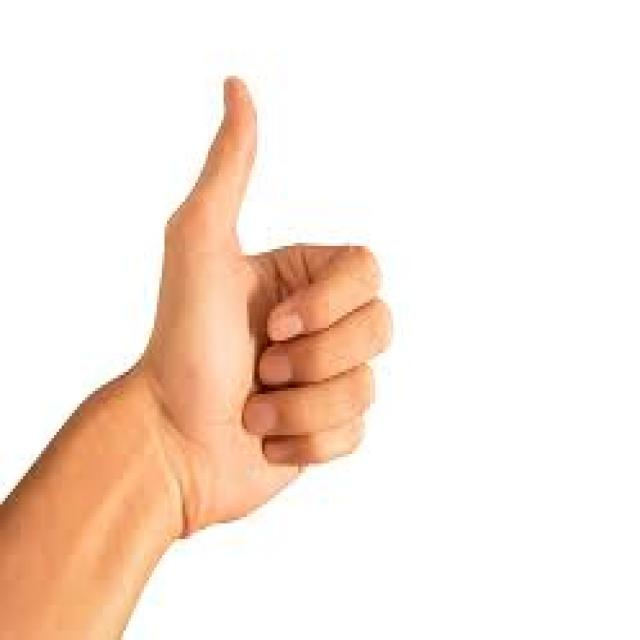hand thumb up: (150, 73, 390, 519)
